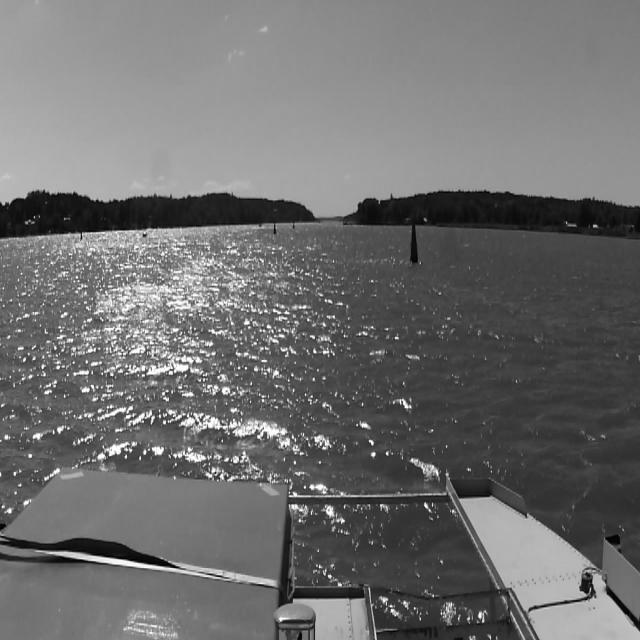buoy: (407, 209, 423, 272), (272, 219, 278, 237), (79, 225, 83, 243), (292, 217, 296, 230)
ship: (257, 220, 263, 228)
